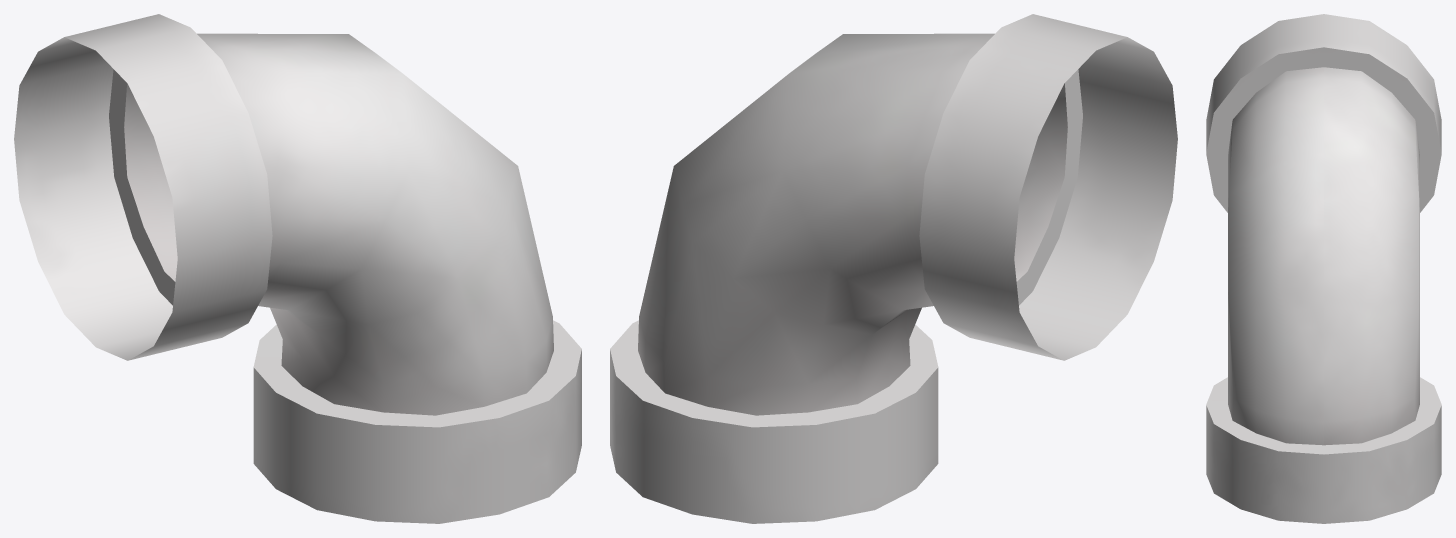
File: Pipe3__2.fbx
3 views of the same model, side by side, from view 1: azimuth 30°, elevation 25°; view 2: azimuth 150°, elevation 25°; view 3: azimuth 270°, elevation 25° (orthographic). The views are drawn at different scales.
Visible parts, largest first — view 1: Mat_Pipe_01 3; view 2: Mat_Pipe_01 3; view 3: Mat_Pipe_01 3.
Part boxes in pixels (<box>): Mat_Pipe_01 3: <box>14,14,581,523</box>; Mat_Pipe_01 3: <box>610,14,1177,523</box>; Mat_Pipe_01 3: <box>1206,14,1441,523</box>.
Size of the model in its own units: 0.5855 by 0.5822 by 0.3581.
1 material, 1 textured.
